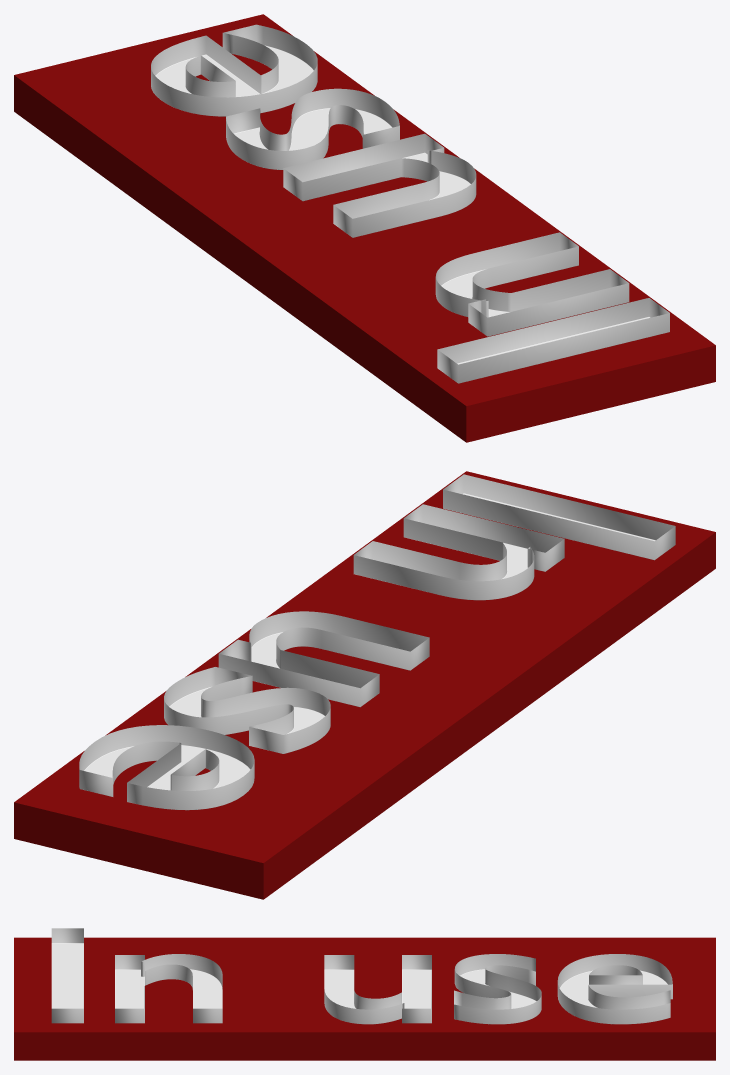
File: inuse1.glb
3 views of the same model, one above another, from view 1: azimuth 30°, elevation 25°; view 2: azimuth 150°, elevation 25°; view 3: azimuth 270°, elevation 25° (orthographic). The views are drawn at different scales.
Parts seen in each view (by area): view 1: Cube, Text; view 2: Cube, Text; view 3: Cube, Text.
Boxes of the visible parts, x1,y1,x2,y2 form: Cube: (14, 14, 715, 442); Text: (151, 24, 669, 383); Cube: (14, 471, 715, 899); Text: (79, 474, 675, 810); Cube: (14, 937, 715, 1060); Text: (51, 928, 672, 1024).
Size of the model in its own units: 1 by 0.2162 by 3.14.
